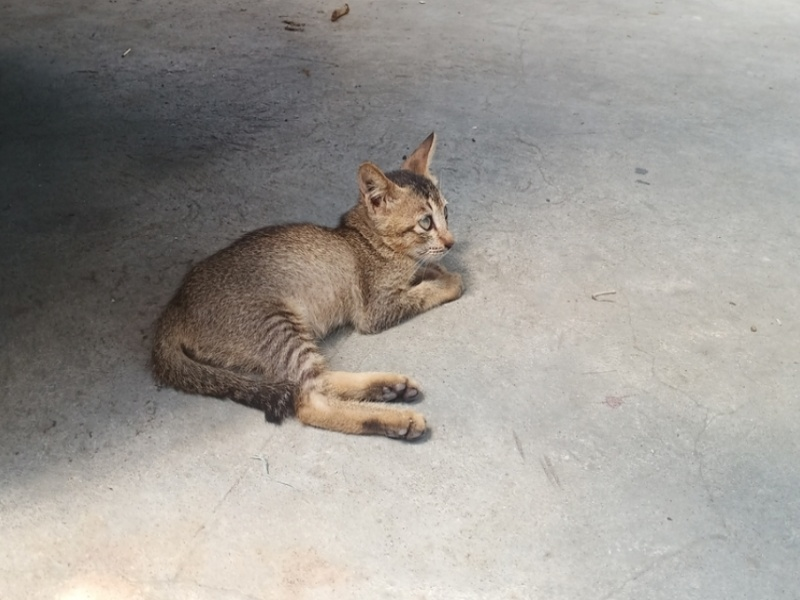cat: (146, 118, 474, 448)
